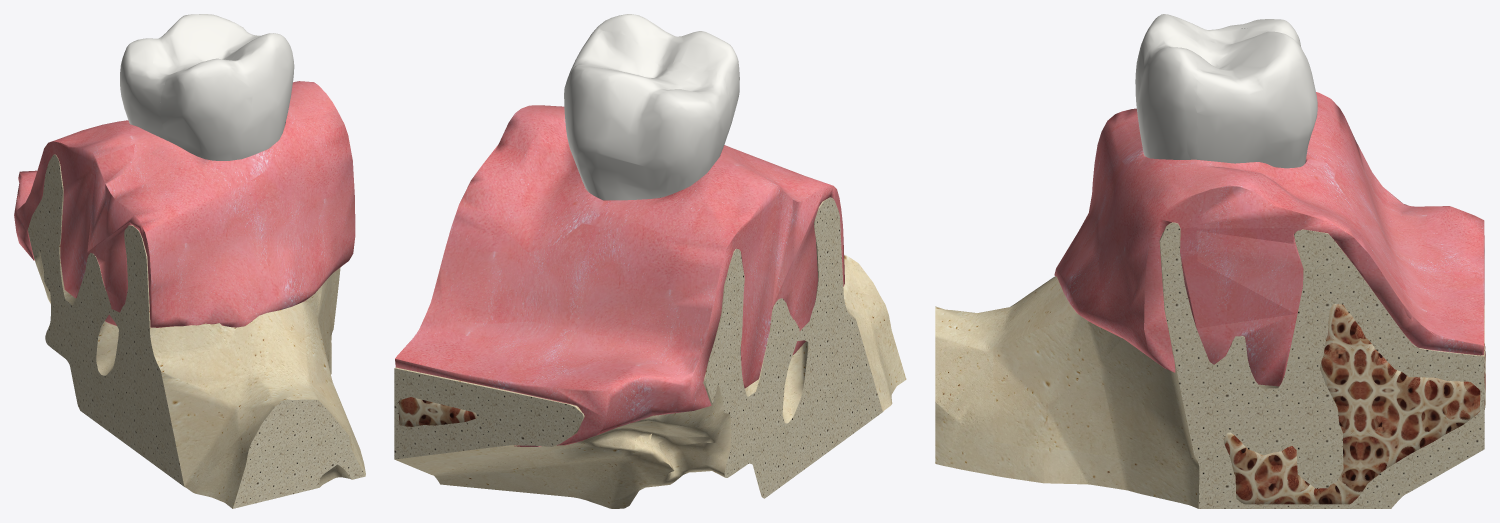
3 renders of one model, left to right at view 1: azimuth 30°, elevation 25°; view 2: azimuth 150°, elevation 25°; view 3: azimuth 270°, elevation 25°, orthographic. The views are drawn at different scales.
Visible parts, largest first — view 1: kompakta_b, gingiva_b, schmelz_b, gingiva_a, kompakta_a, schmelz_a; view 2: gingiva_a, kompakta_a, schmelz_a, kompakta_b, gingiva_b, schmelz_b, spongiosa_a; view 3: kompakta_b, gingiva_a, kompakta_a, gingiva_b, spongiosa_a, schmelz_a, schmelz_b.
Part boxes in pixels (x1,y1,x2,y2): kompakta_b: (105,225,365,508); gingiva_b: (105,101,355,327); schmelz_b: (160,33,294,160); gingiva_a: (14,81,331,321); kompakta_a: (28,154,331,428); schmelz_a: (120,14,260,141); gingiva_a: (395,105,793,446); kompakta_a: (394,248,793,508); schmelz_a: (564,29,730,200); kompakta_b: (783,197,906,477); gingiva_b: (538,105,844,354); schmelz_b: (592,14,739,130); spongiosa_a: (398,397,477,426); kompakta_b: (935,222,1197,507); gingiva_a: (1197,92,1484,386); kompakta_a: (1197,229,1484,508); gingiva_b: (1054,108,1197,372); spongiosa_a: (1223,303,1485,504); schmelz_a: (1197,19,1317,168); schmelz_b: (1135,14,1197,159).
Size of the model in its own units: 0.0183 by 0.0277 by 0.033.
21 materials, 8 textured.
